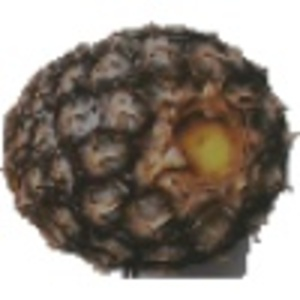abacaxi: (3, 17, 292, 266)
